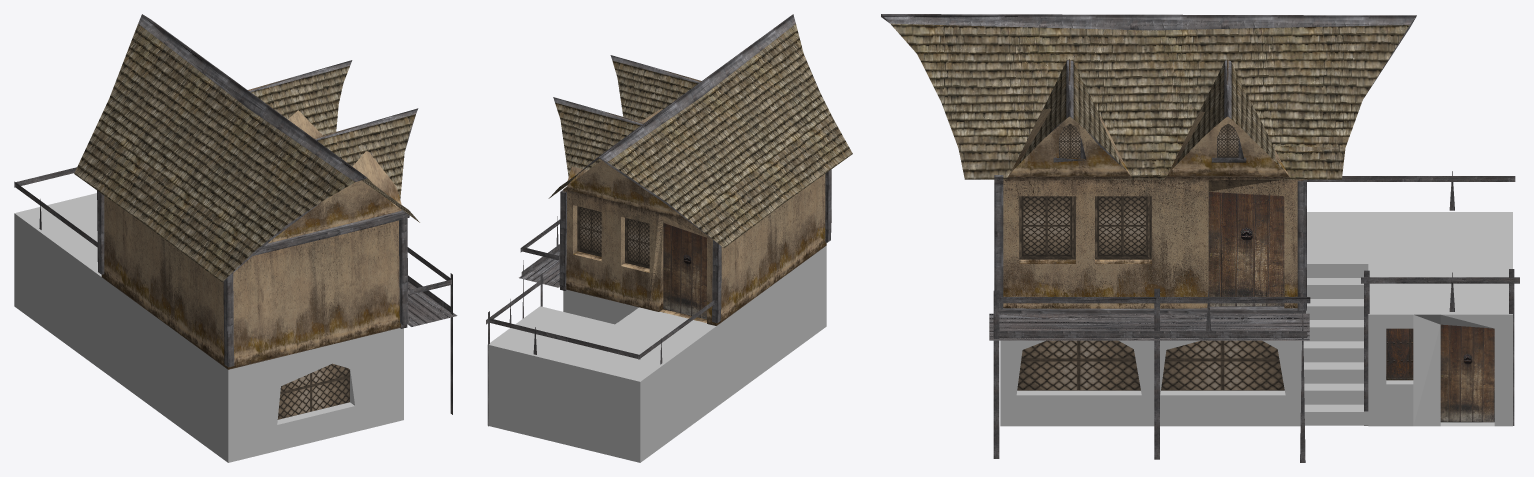
The model's file is v3_house2_LOD2.dae.
The picture shows the model from 3 angles, left to right: view 1: azimuth 30°, elevation 25°; view 2: azimuth 150°, elevation 25°; view 3: azimuth 270°, elevation 25°; orthographic projection. The views are drawn at different scales.
Visible parts, largest first — view 1: roof_01, bricks_old06, con_dirt_01, woodPlanks, doorwindow_set; view 2: bricks_old06, roof_01, con_dirt_01, woodPlanks, doorwindow_set; view 3: roof_01, bricks_old06, doorwindow_set, woodPlanks, con_dirt_01.
Part boxes in pixels (box(x1,y1,x2,y2)): roof_01: box(74, 24, 419, 281); bricks_old06: box(14, 193, 403, 462); con_dirt_01: box(101, 77, 401, 369); woodPlanks: box(14, 14, 457, 414); doorwindow_set: box(277, 363, 349, 419); bricks_old06: box(487, 246, 826, 462); roof_01: box(548, 24, 852, 247); con_dirt_01: box(563, 70, 826, 325); woodPlanks: box(486, 14, 831, 426); doorwindow_set: box(577, 206, 706, 319); roof_01: box(890, 23, 1409, 179); bricks_old06: box(1000, 212, 1512, 426); doorwindow_set: box(1017, 123, 1494, 422); woodPlanks: box(881, 14, 1519, 462); con_dirt_01: box(1003, 59, 1303, 308).
Size of the model in its own units: 6.81 by 8.28 by 12.94.
